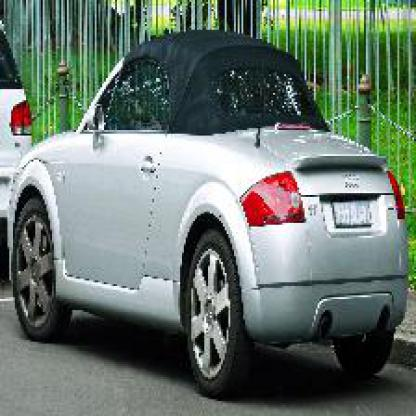not_emergency: (9, 28, 407, 384)
